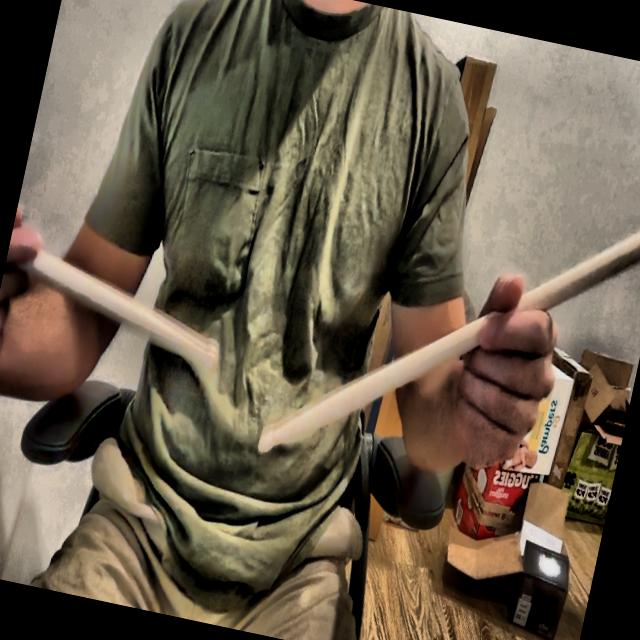Drumstick-Heads: (250, 409, 284, 463), (192, 332, 224, 377)
